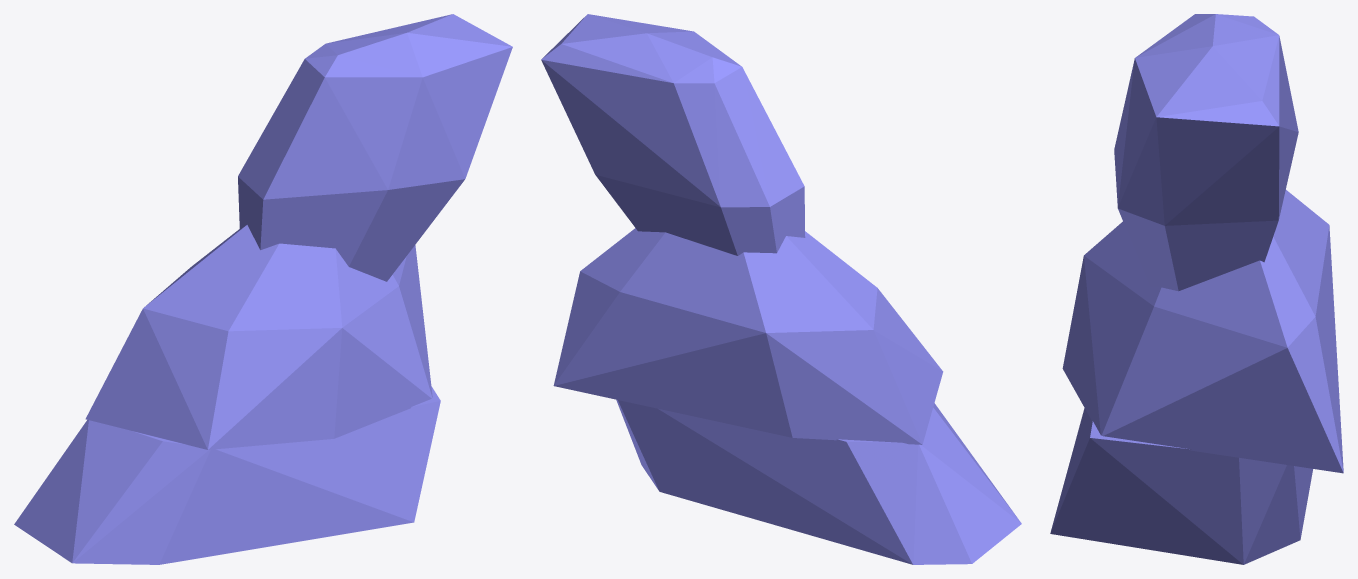
The model's file is Cliff_Spire_02_Collider_Slope_01.FBX.
The picture shows the model from 3 angles, left to right: view 1: azimuth 30°, elevation 25°; view 2: azimuth 150°, elevation 25°; view 3: azimuth 270°, elevation 25°; orthographic projection. The views are drawn at different scales.
Parts seen in each view (by area): view 1: COLLIDER2, COLLIDER3, COLLIDER1; view 2: COLLIDER2, COLLIDER3, COLLIDER1; view 3: COLLIDER2, COLLIDER3, COLLIDER1.
Part boxes in pixels (bbox=[...]): COLLIDER2: bbox=[85, 225, 432, 449]; COLLIDER3: bbox=[238, 14, 512, 281]; COLLIDER1: bbox=[14, 386, 440, 564]; COLLIDER2: bbox=[553, 228, 943, 444]; COLLIDER3: bbox=[541, 14, 805, 255]; COLLIDER1: bbox=[616, 399, 1021, 564]; COLLIDER2: bbox=[1062, 189, 1343, 473]; COLLIDER3: bbox=[1114, 14, 1298, 291]; COLLIDER1: bbox=[1050, 408, 1312, 564].
Bounding box in the file's own units: 480 × 441 × 224.
